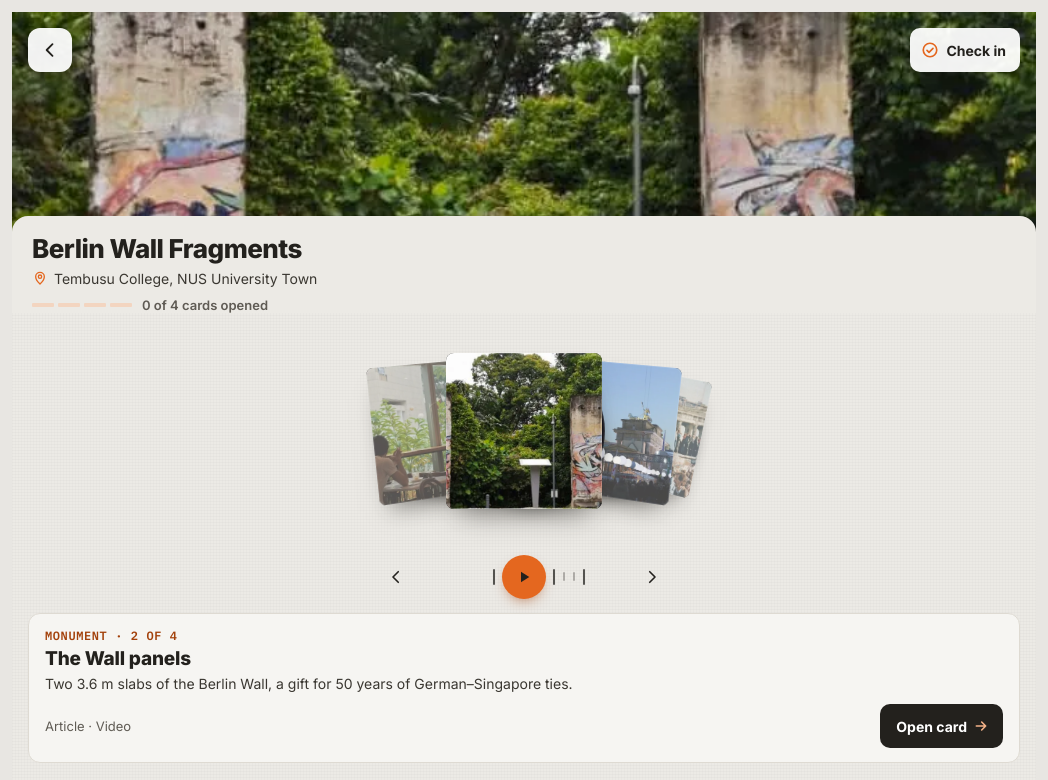
Back to Home goes to Home with focusPlace state
Click the link named "Back to Home". click: point(50, 50)
box: top-left (28, 28), bottom-right (72, 72)
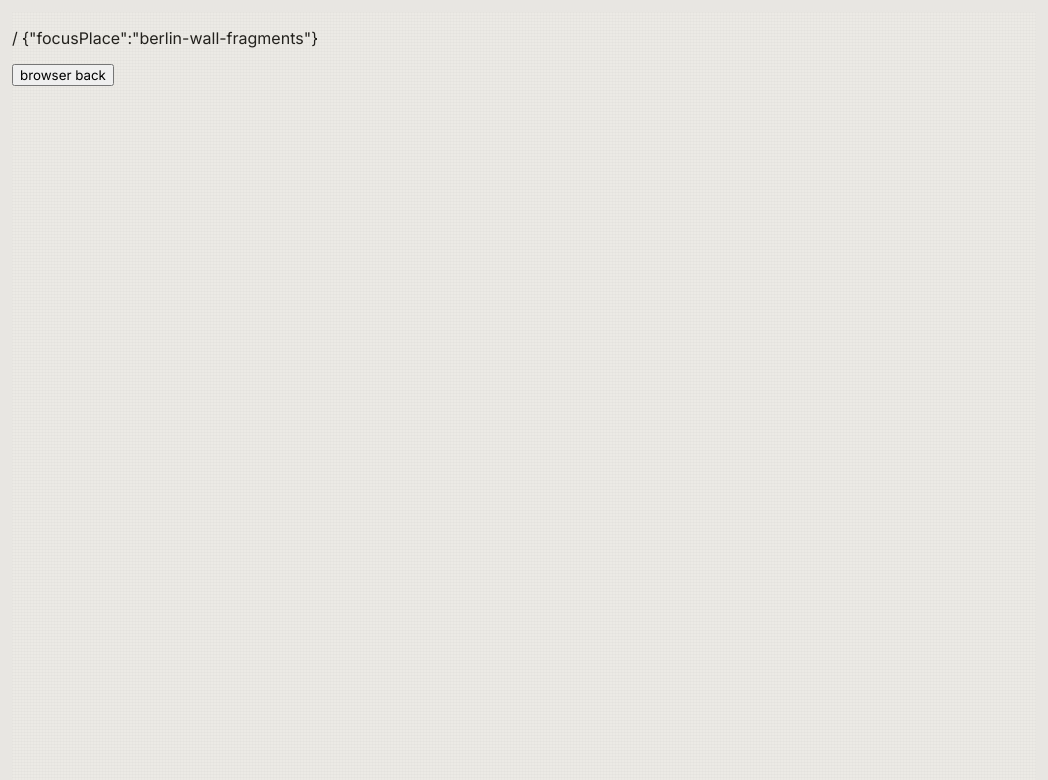
Expected: the text with test id "at" reads "/ {\"focusPlace\":\"berlin-wall-fragments\"}", top-left (12, 28), bottom-right (318, 48)
